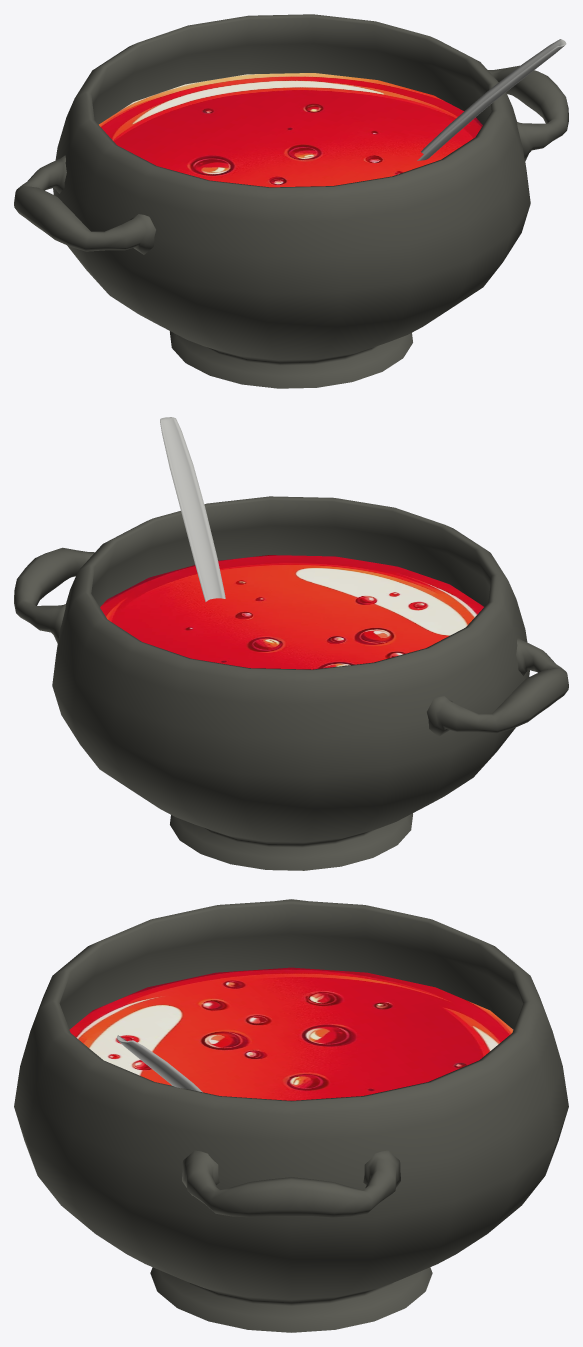
File: FI_071_red_soup.glb
The picture shows the model from 3 angles, top to bottom: view 1: azimuth 30°, elevation 25°; view 2: azimuth 150°, elevation 25°; view 3: azimuth 270°, elevation 25°; orthographic projection. The views are drawn at different scales.
Parts seen in each view (by area): view 1: red_soup; view 2: red_soup; view 3: red_soup.
Part boxes in pixels (x1=…): red_soup: x1=14, y1=14, x2=568, y2=388; red_soup: x1=14, y1=417, x2=568, y2=870; red_soup: x1=14, y1=899, x2=568, y2=1332.
Bounding box in the file's own units: 0.8808 × 0.4827 × 0.7023.
3 materials, 1 textured.
